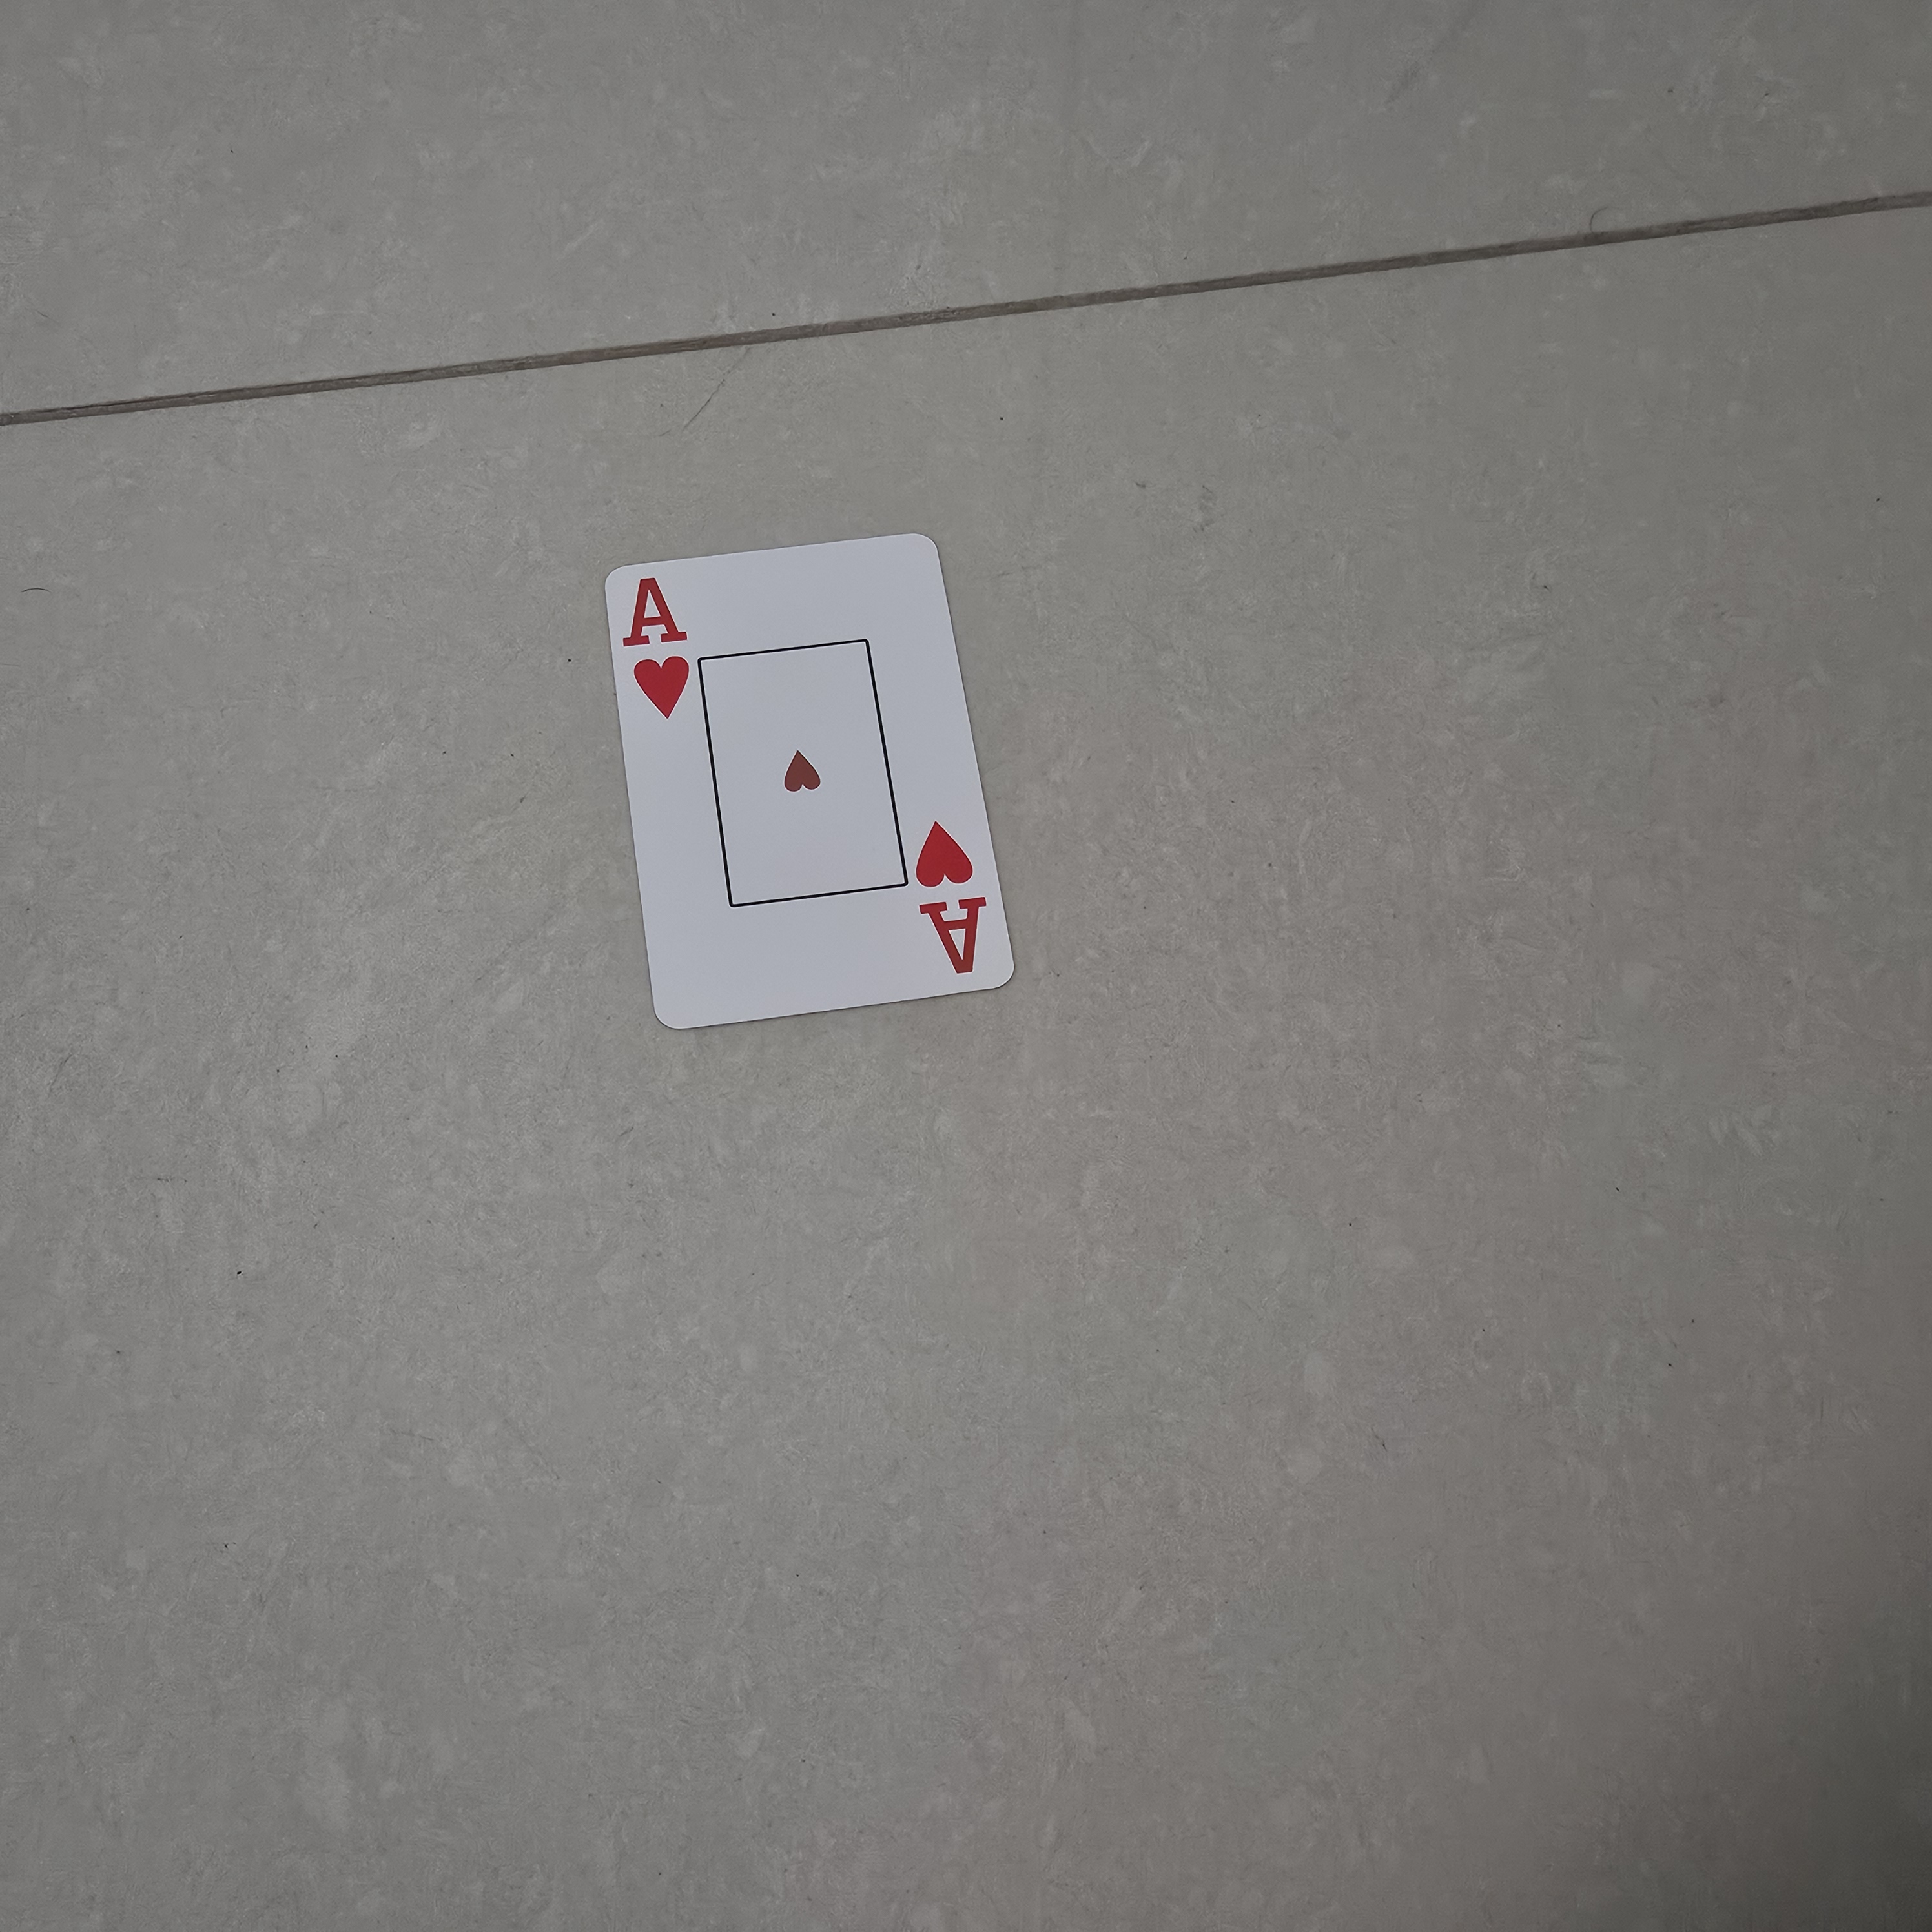AC: (904, 810, 1001, 989), (609, 563, 706, 727)
